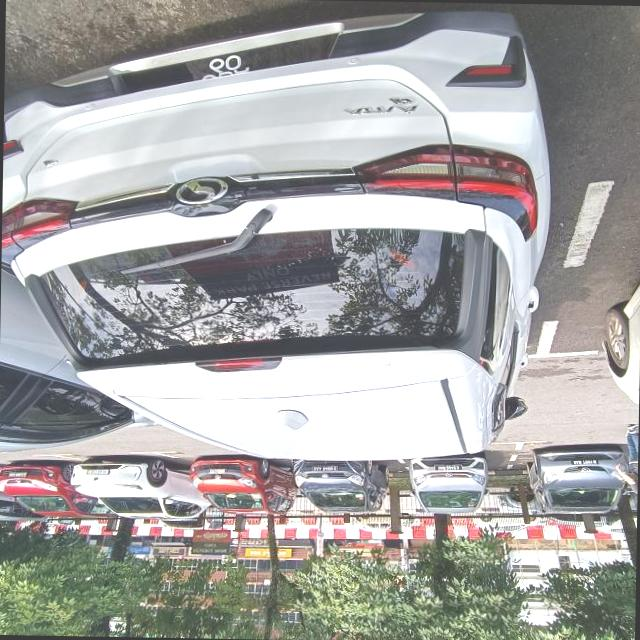PeroduaAtiva: (0, 1, 556, 466)
